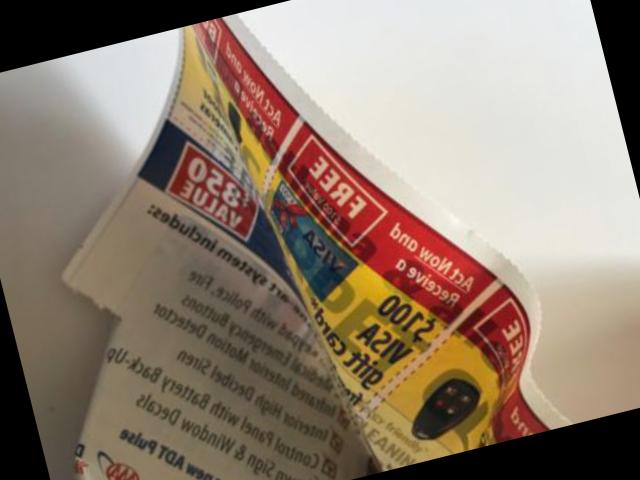cardboard paper: (65, 14, 570, 480)
